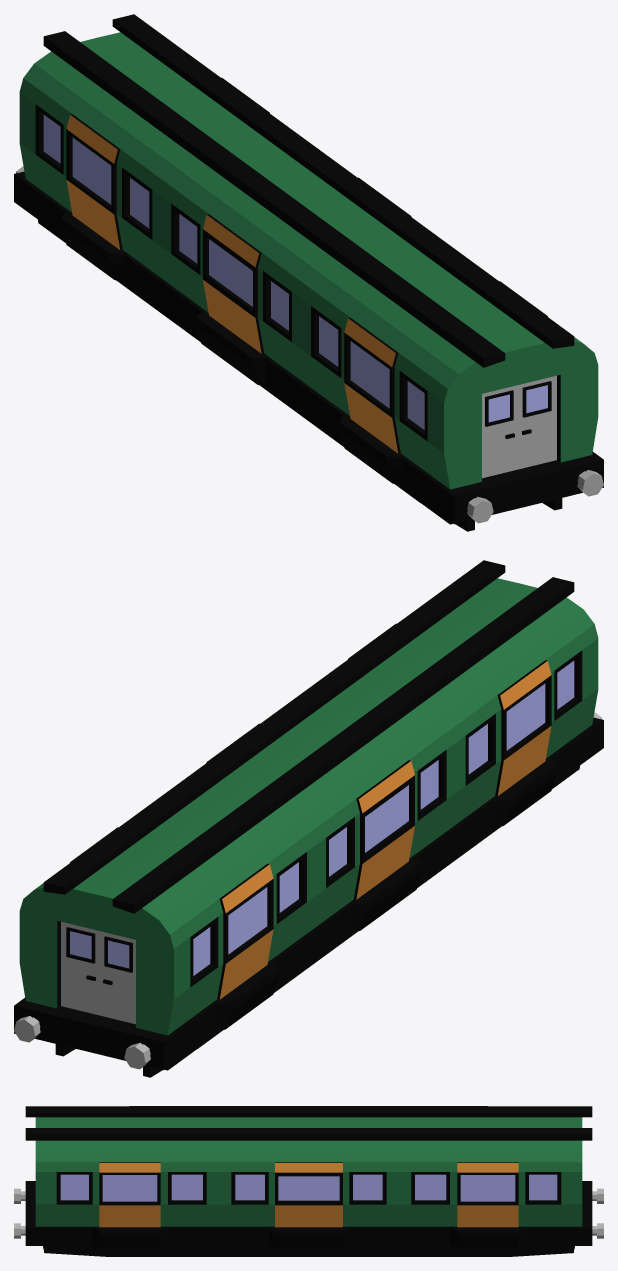
File: trainwagon.fbx
The picture shows the model from 3 angles, top to bottom: view 1: azimuth 30°, elevation 25°; view 2: azimuth 150°, elevation 25°; view 3: azimuth 270°, elevation 25°; orthographic projection. The views are drawn at different scales.
Visible parts, largest first — view 1: Train; view 2: Train; view 3: Train.
Boxes of the visible parts, x1=… form: Train: x1=14, y1=14, x2=603, y2=531; Train: x1=14, y1=560, x2=603, y2=1077; Train: x1=14, y1=1106, x2=603, y2=1256.
Bounding box in the file's own units: 1073 × 1142 × 5024.
